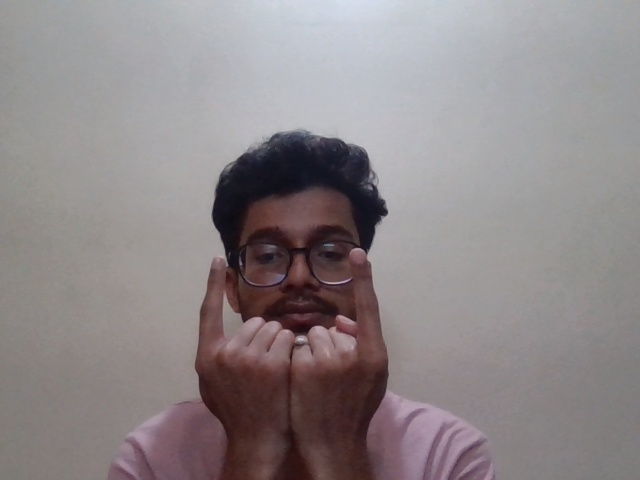when: (187, 243, 415, 423)
